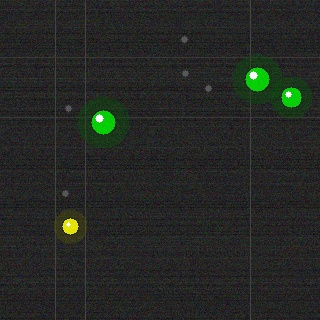green_normal: (243, 65, 271, 93), (89, 108, 117, 136), (279, 85, 303, 109)
yellow_warning: (60, 216, 80, 236)
